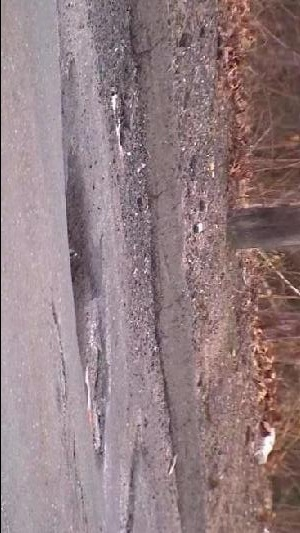pothole: (61, 154, 112, 466)
